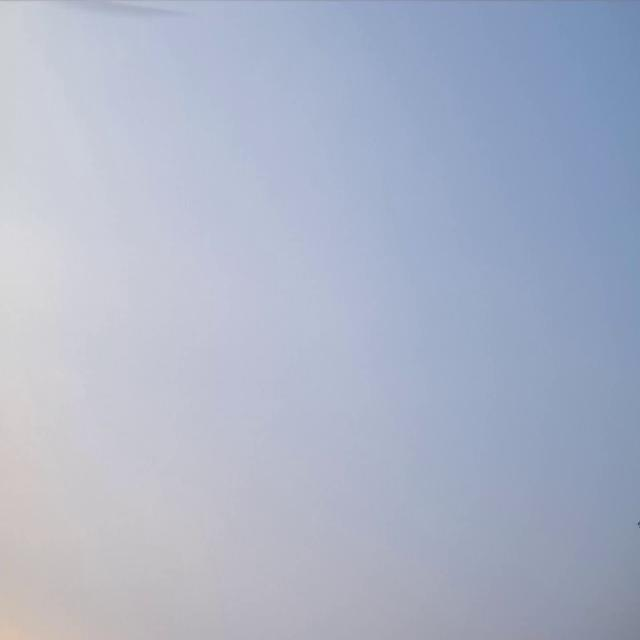UAV: (636, 521, 640, 528)
